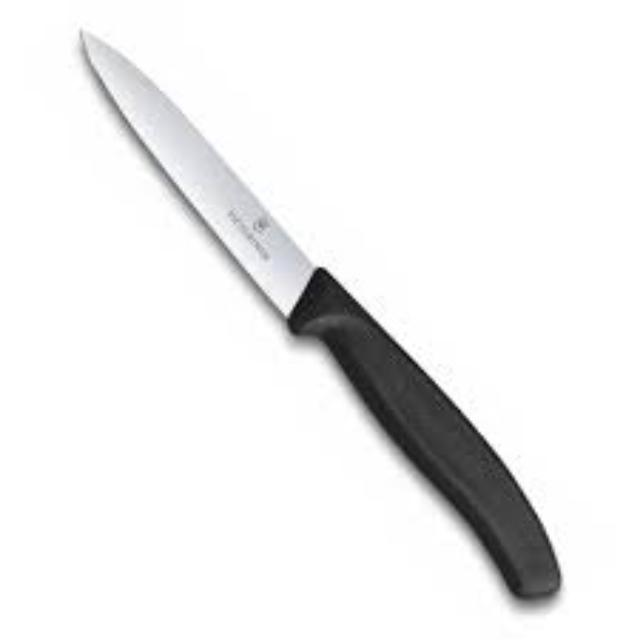knife: (78, 26, 560, 596)
